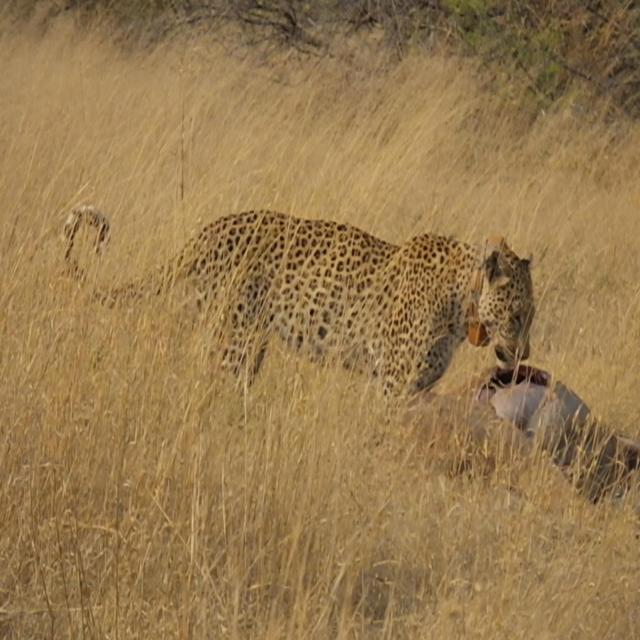Leopard: (50, 198, 554, 434)
